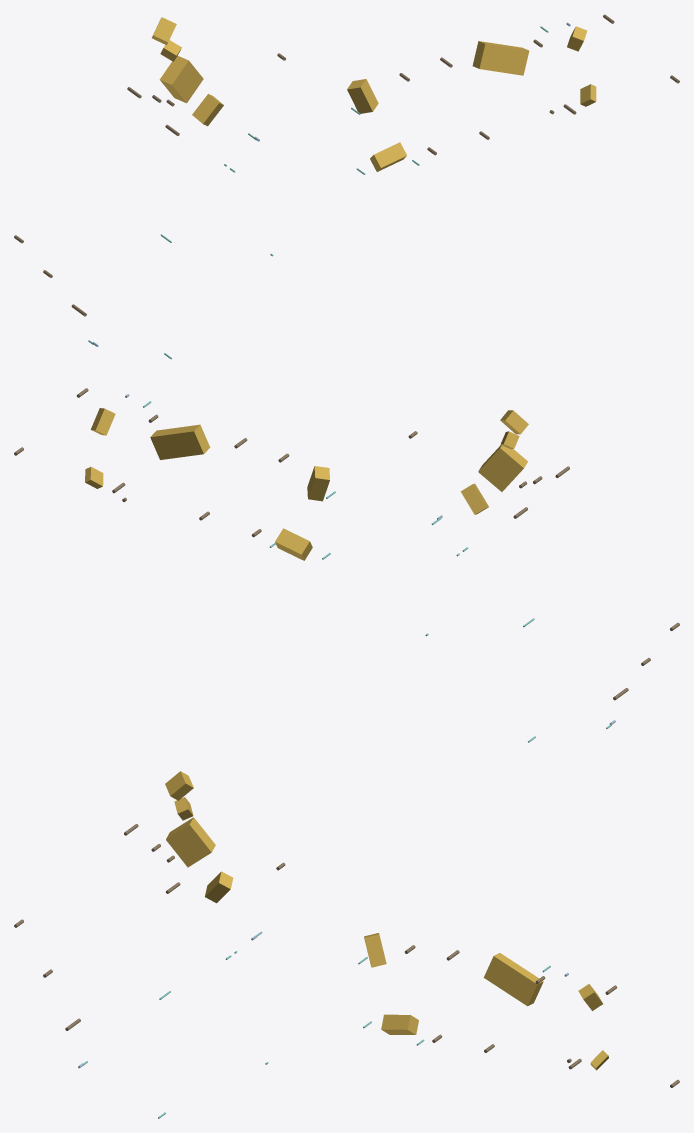
The model's file is street-assets.glb.
3 renders of one model, top to bottom at view 1: azimuth 30°, elevation 25°; view 2: azimuth 150°, elevation 25°; view 3: azimuth 330°, elevation 25°, orthographic. The views are drawn at different scales.
Visible parts, largest first — view 1: geometry_0; view 2: geometry_0; view 3: geometry_0.
Part boxes in pixels (<box>): geometry_0: <box>14,14,679,359</box>; geometry_0: <box>14,388,679,742</box>; geometry_0: <box>14,771,679,1118</box>.
Size of the model in its own units: 102 by 49.27 by 6.35.
